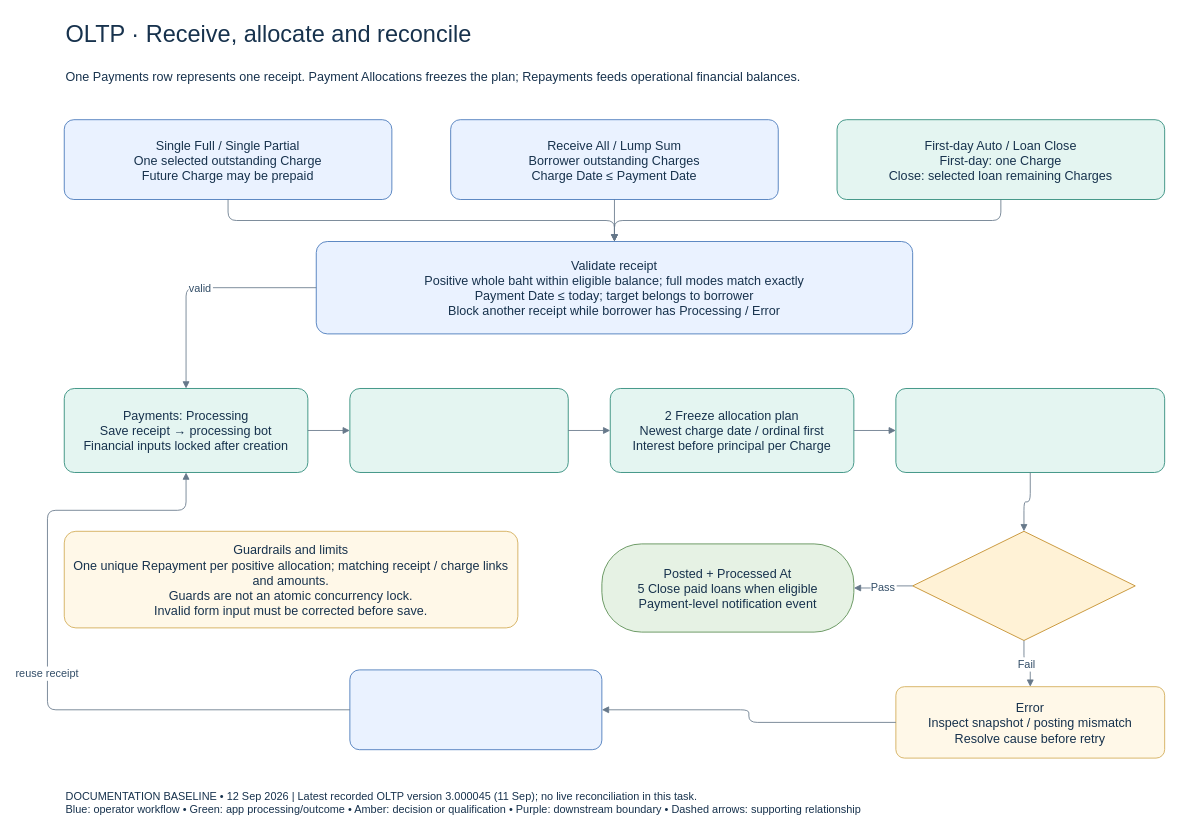
This 1187x839 diagram has some shape labels left out. The centre of each missing label's shape, as x and y in pixels:
1 Create snapshots Eligible Charges → Payment Allocations: [458,430]
3 Post plan Create traced Repayments Skip zero / already-posted allocations: [1030,430]
4 Reconcile Receipt = plan = posted? Links / components complete?: [1023,585]
Payment - Retry Error → Processing No competing Processing receipt: [475,709]
